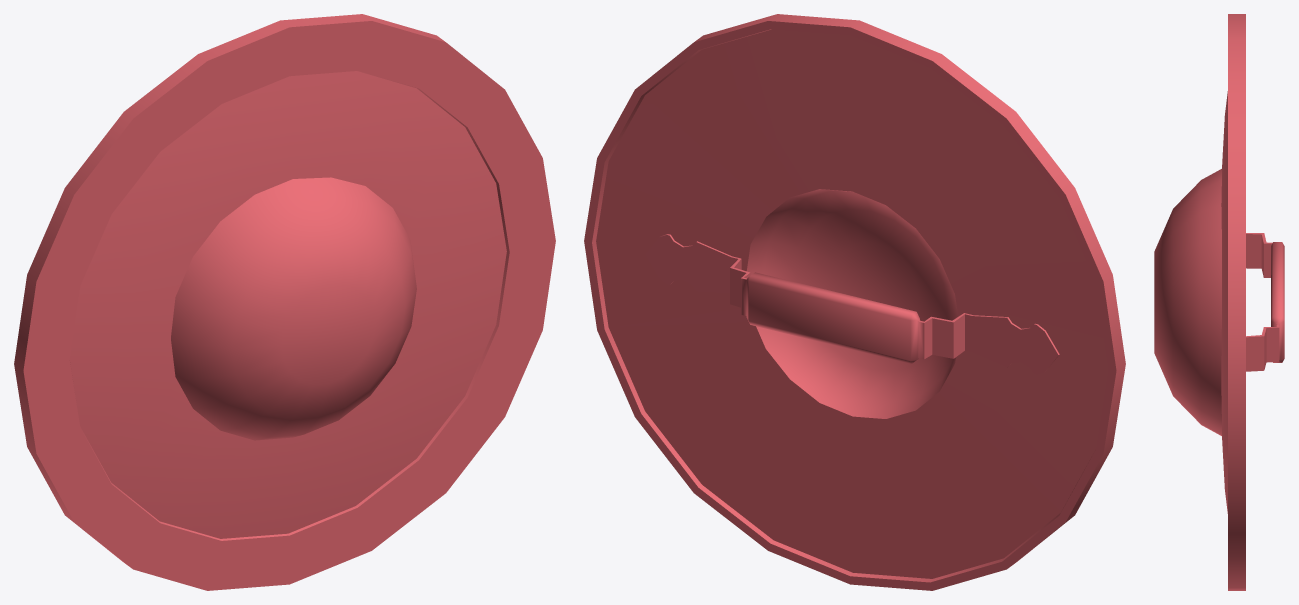
The model's file is round shield.fbx.
3 renders of one model, left to right at view 1: azimuth 30°, elevation 25°; view 2: azimuth 150°, elevation 25°; view 3: azimuth 270°, elevation 25°, orthographic. The views are drawn at different scales.
Visible parts, largest first — view 1: Plane; view 2: Plane; view 3: Plane.
Boxes of the visible parts, <box> form: Plane: <box>14,14,555,590</box>; Plane: <box>584,14,1125,590</box>; Plane: <box>1154,14,1284,590</box>.
Size of the model in its own units: 442 by 442 by 99.2.
